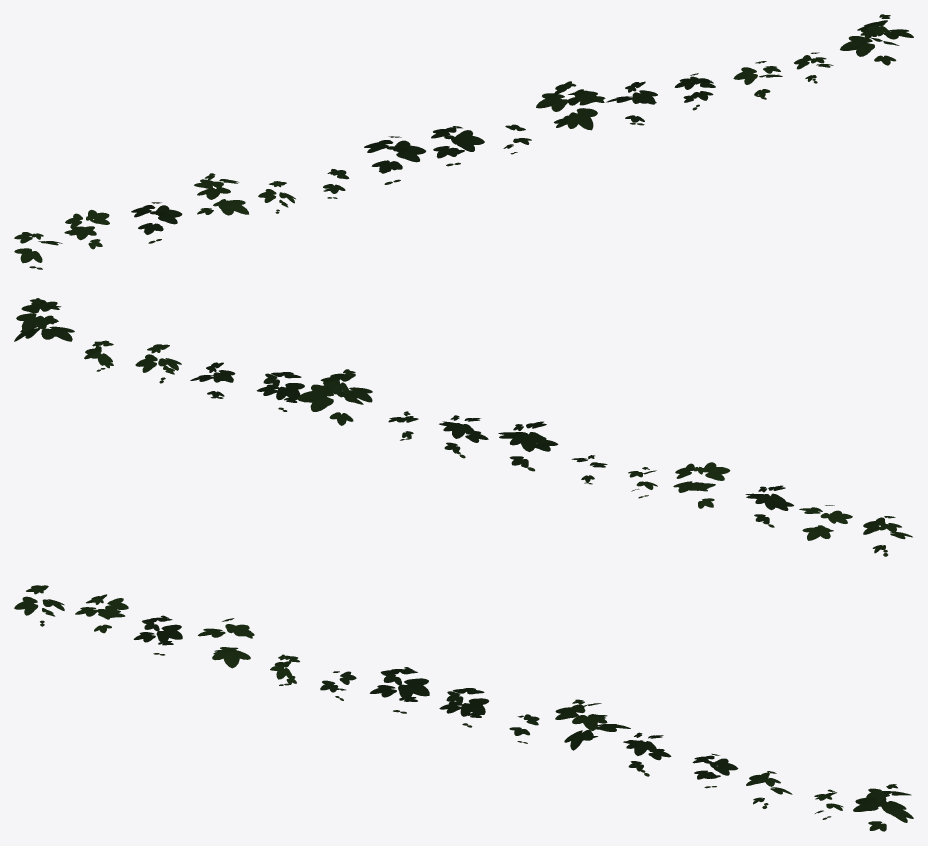
Rendered from ROW_07_SEG2_foliage.dae.
3 renders of one model, top to bottom at view 1: azimuth 30°, elevation 25°; view 2: azimuth 150°, elevation 25°; view 3: azimuth 330°, elevation 25°, orthographic.
Parts seen in each view (by area): view 1: ROW_07_SEG2_foliage; view 2: ROW_07_SEG2_foliage; view 3: ROW_07_SEG2_foliage.
Boxes of the visible parts, <box> form: ROW_07_SEG2_foliage: <box>14,14,913,269</box>; ROW_07_SEG2_foliage: <box>14,298,912,556</box>; ROW_07_SEG2_foliage: <box>14,585,913,831</box>.
Bounding box in the file's own units: 4.49 × 0.3097 × 0.276.
